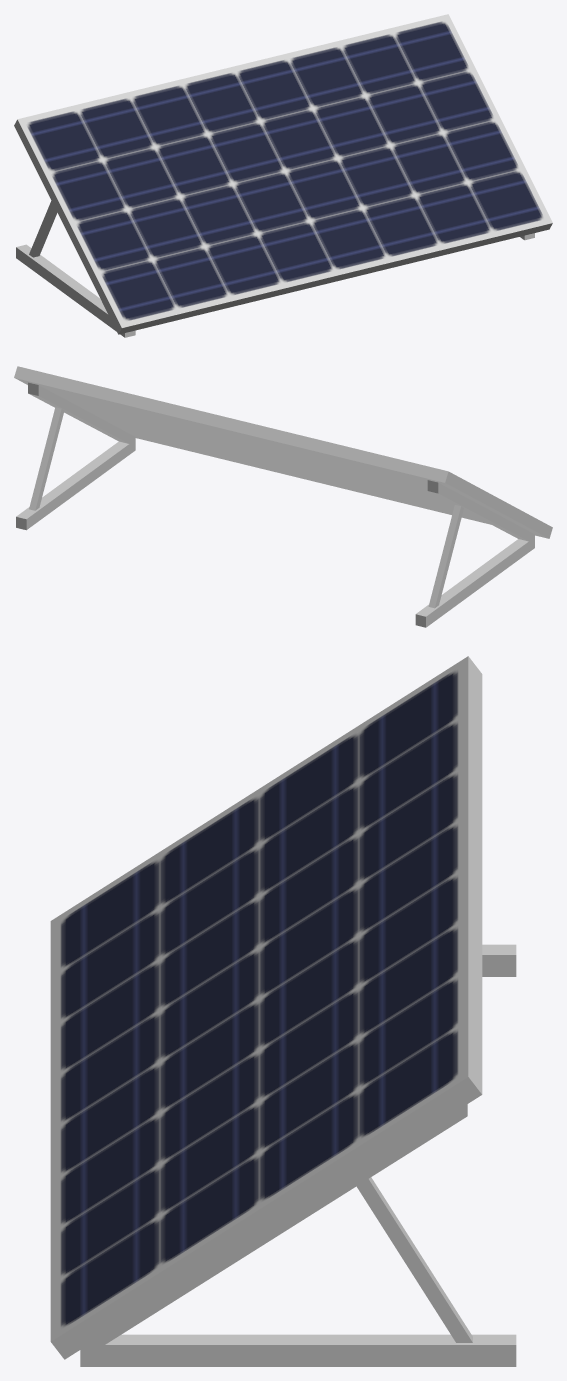
File: SM_Props_Suburb_Solar_01.fbx
3 views of the same model, one above another, from view 1: azimuth 30°, elevation 25°; view 2: azimuth 150°, elevation 25°; view 3: azimuth 270°, elevation 25° (orthographic). The views are drawn at different scales.
Visible parts, largest first — view 1: SM_Props_Suburb_Solar_01; view 2: SM_Props_Suburb_Solar_01; view 3: SM_Props_Suburb_Solar_01.
Part boxes in pixels (bbox=[...]): SM_Props_Suburb_Solar_01: bbox=[14, 14, 552, 337]; SM_Props_Suburb_Solar_01: bbox=[14, 366, 552, 627]; SM_Props_Suburb_Solar_01: bbox=[50, 656, 516, 1366].
Size of the model in its own units: 205 by 68.26 by 95.89.
